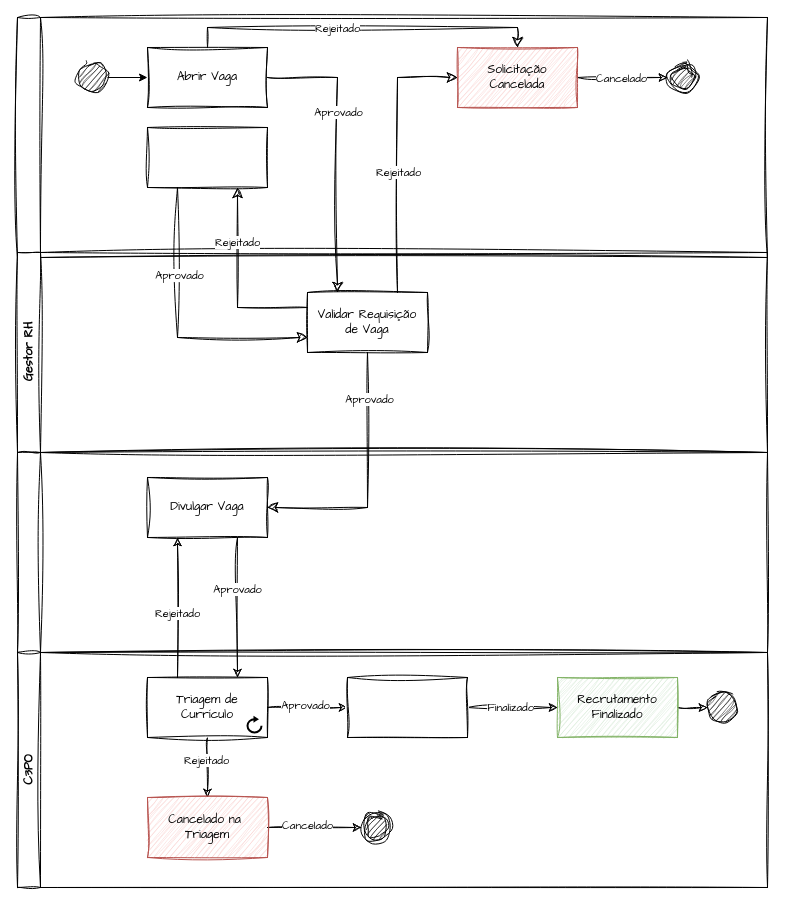
Some shapes in this 785 by 905 pixel diagram are drawn without their labels. Here are the shapes that lost their labels. From the top down, the box of each, then its label:
(146, 126, 268, 188): Revisar Solicitação
(16, 16, 768, 258): Requisitante
(16, 452, 768, 652): Analista RH
(346, 676, 468, 738): Abrir Processos Seleção
